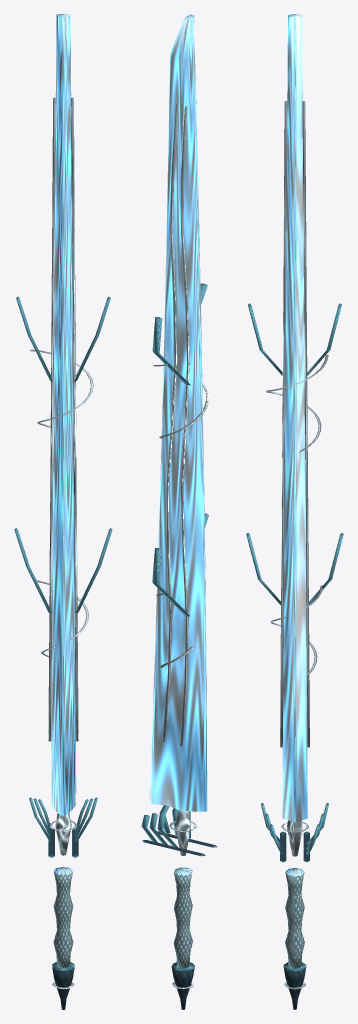
File: sword_14_astral_wind.glb
The picture shows the model from 3 angles, left to right: view 1: azimuth 90°, elevation 25°; view 2: azimuth 150°, elevation 25°; view 3: azimuth 270°, elevation 25°; orthographic projection.
Visible parts, largest first — view 1: Blade_WindSliver, Streams_WindTrails, Grip_WindSilk, Feathers_WindBlades, Guard_WingPair, Pommel_BreezeOrb, Core_AstralZephyr, Rings_Cyclone; view 2: Blade_WindSliver, Streams_WindTrails, Grip_WindSilk, Guard_WingPair, Feathers_WindBlades, Pommel_BreezeOrb, Core_AstralZephyr, Rings_Cyclone; view 3: Blade_WindSliver, Streams_WindTrails, Grip_WindSilk, Feathers_WindBlades, Guard_WingPair, Pommel_BreezeOrb, Rings_Cyclone, Core_AstralZephyr.
Part boxes in pixels (x1,y1,x2,y2): Blade_WindSliver: (50, 14, 76, 816); Streams_WindTrails: (48, 97, 78, 741); Grip_WindSilk: (53, 867, 73, 968); Feathers_WindBlades: (14, 297, 112, 613); Guard_WingPair: (29, 797, 97, 857); Pommel_BreezeOrb: (52, 962, 74, 1009); Core_AstralZephyr: (49, 813, 77, 855); Rings_Cyclone: (30, 349, 93, 658); Blade_WindSliver: (149, 14, 207, 811); Streams_WindTrails: (162, 100, 196, 746); Grip_WindSilk: (173, 867, 192, 968); Guard_WingPair: (141, 805, 217, 856); Feathers_WindBlades: (152, 283, 208, 616); Pommel_BreezeOrb: (171, 962, 194, 1009); Core_AstralZephyr: (169, 810, 197, 855); Rings_Cyclone: (153, 364, 208, 667); Blade_WindSliver: (282, 14, 307, 822); Streams_WindTrails: (280, 101, 309, 747); Grip_WindSilk: (285, 868, 304, 968); Feathers_WindBlades: (246, 303, 343, 604); Guard_WingPair: (261, 803, 328, 862); Pommel_BreezeOrb: (283, 962, 306, 1009); Rings_Cyclone: (265, 354, 328, 676); Core_AstralZephyr: (281, 820, 308, 856).
Bounding box in the file's own units: 0.1744 × 2.6 × 0.2322.
1 material, 1 textured.
